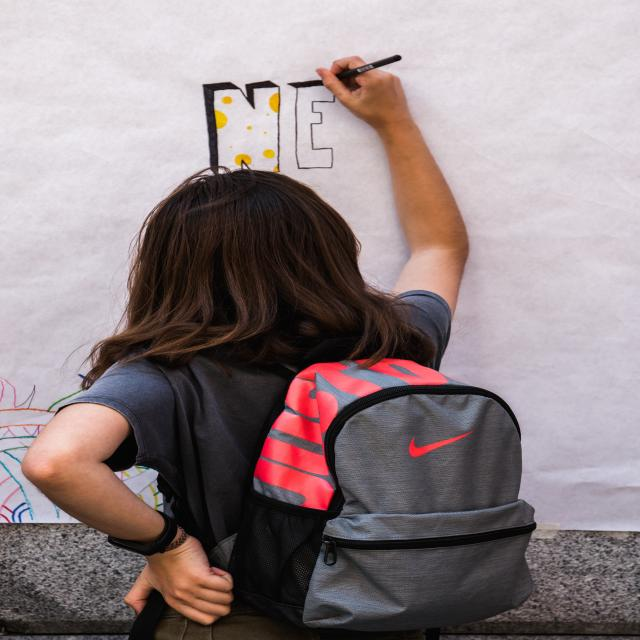backpack: (158, 332, 533, 632)
